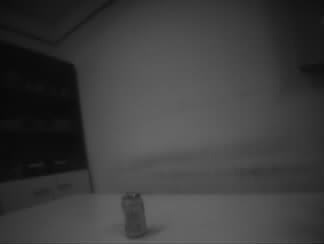Tin can: (120, 192, 148, 238)
